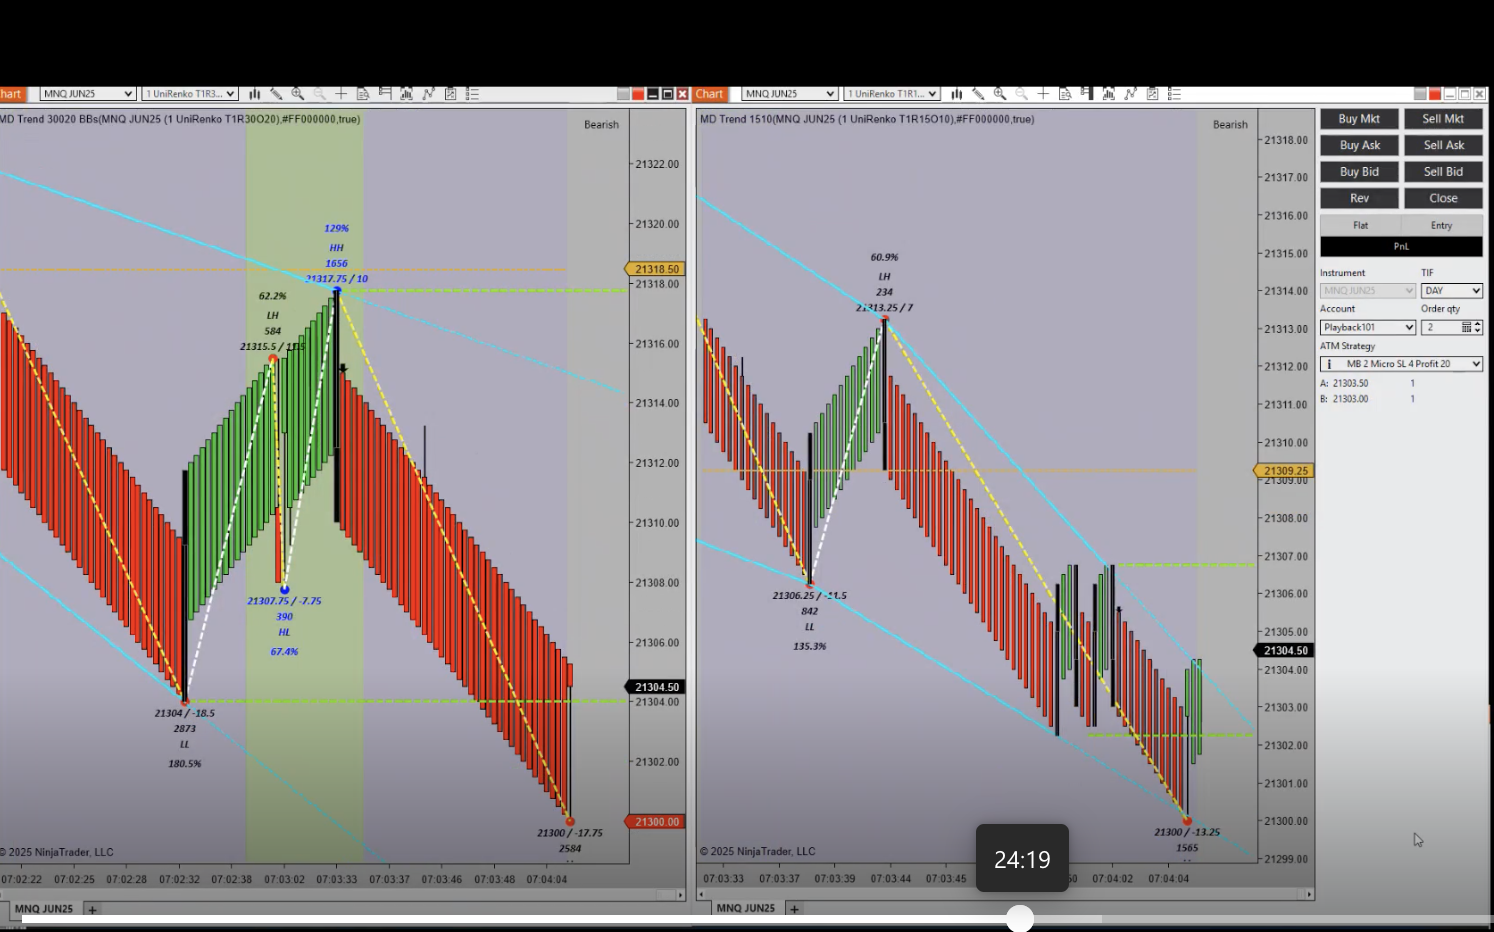candle: (334, 291, 343, 523), (184, 470, 192, 698), (806, 436, 819, 584), (1109, 568, 1118, 712), (1092, 587, 1099, 730), (1073, 566, 1080, 716), (882, 321, 889, 470), (1054, 587, 1059, 740)
